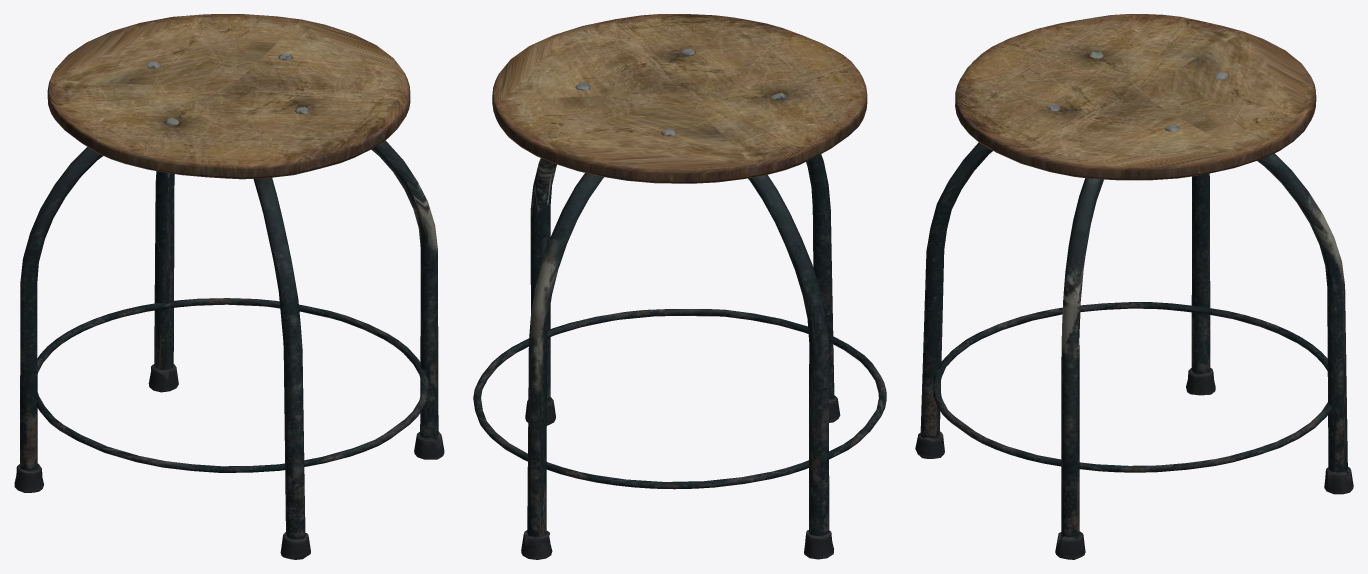
Rendered from metal-stool-02.glb.
The picture shows the model from 3 angles, left to right: view 1: azimuth 30°, elevation 25°; view 2: azimuth 150°, elevation 25°; view 3: azimuth 270°, elevation 25°; orthographic projection. The views are drawn at different scales.
Visible parts, largest first — view 1: metal_stool_02; view 2: metal_stool_02; view 3: metal_stool_02.
Part boxes in pixels (x1,y1,x2,y2): metal_stool_02: (14,14,444,559); metal_stool_02: (473,14,886,559); metal_stool_02: (915,14,1353,559).
Bounding box in the file's own units: 0.4477 × 0.4579 × 0.4731.
Materials: 1 (1 with a texture image).
